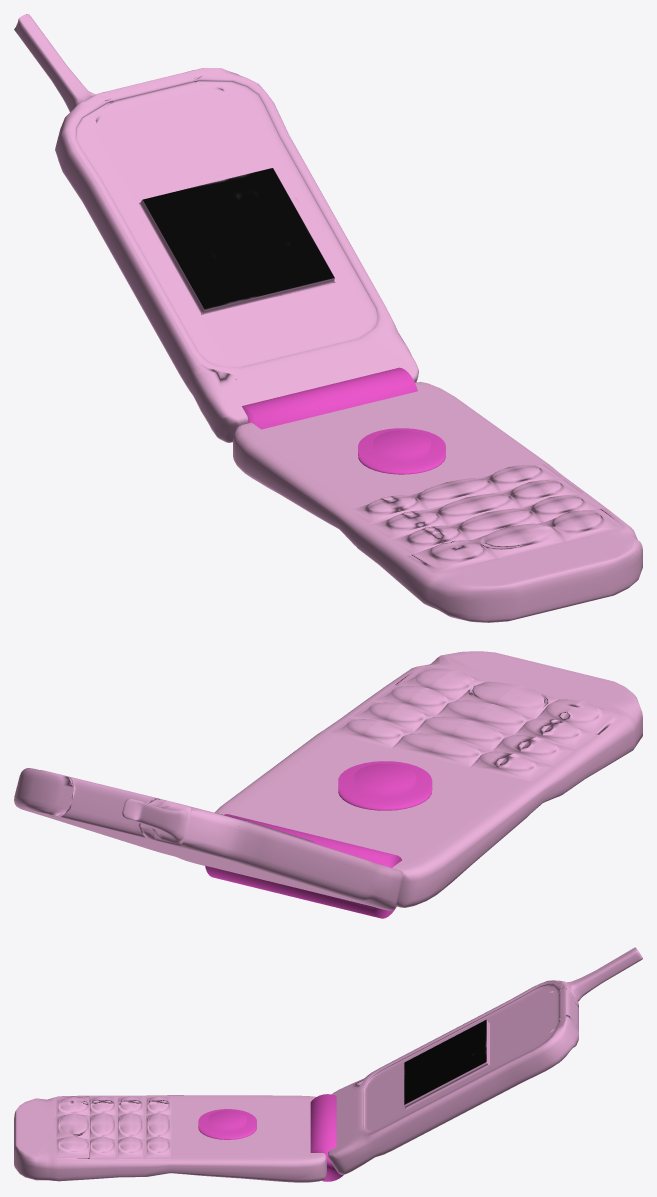
File: contact.glb
3 views of the same model, one above another, from view 1: azimuth 30°, elevation 25°; view 2: azimuth 150°, elevation 25°; view 3: azimuth 270°, elevation 25° (orthographic). The views are drawn at different scales.
Parts seen in each view (by area): view 1: phoneTop, phoneBottom, phoneMiddle, phoneButton; view 2: phoneBottom, phoneTop, phoneButton, phoneMiddle; view 3: phoneBottom, phoneTop, phoneMiddle, phoneButton.
Boxes of the visible parts, x1,y1,x2,y2 form: phoneTop: (14,14,418,442); phoneBottom: (233,382,642,622); phoneMiddle: (242,367,417,429); phoneButton: (358,428,445,474); phoneBottom: (214,651,642,907); phoneTop: (14,768,403,910); phoneButton: (338,761,432,810); phoneMiddle: (205,814,401,918); phoneBottom: (14,1095,326,1182); phoneTop: (328,947,642,1174); phoneMiddle: (310,1094,343,1181); phoneButton: (198,1109,256,1139).
Bounding box in the file's own units: 2 × 2.5 × 7.72.
3 materials, 1 textured.
